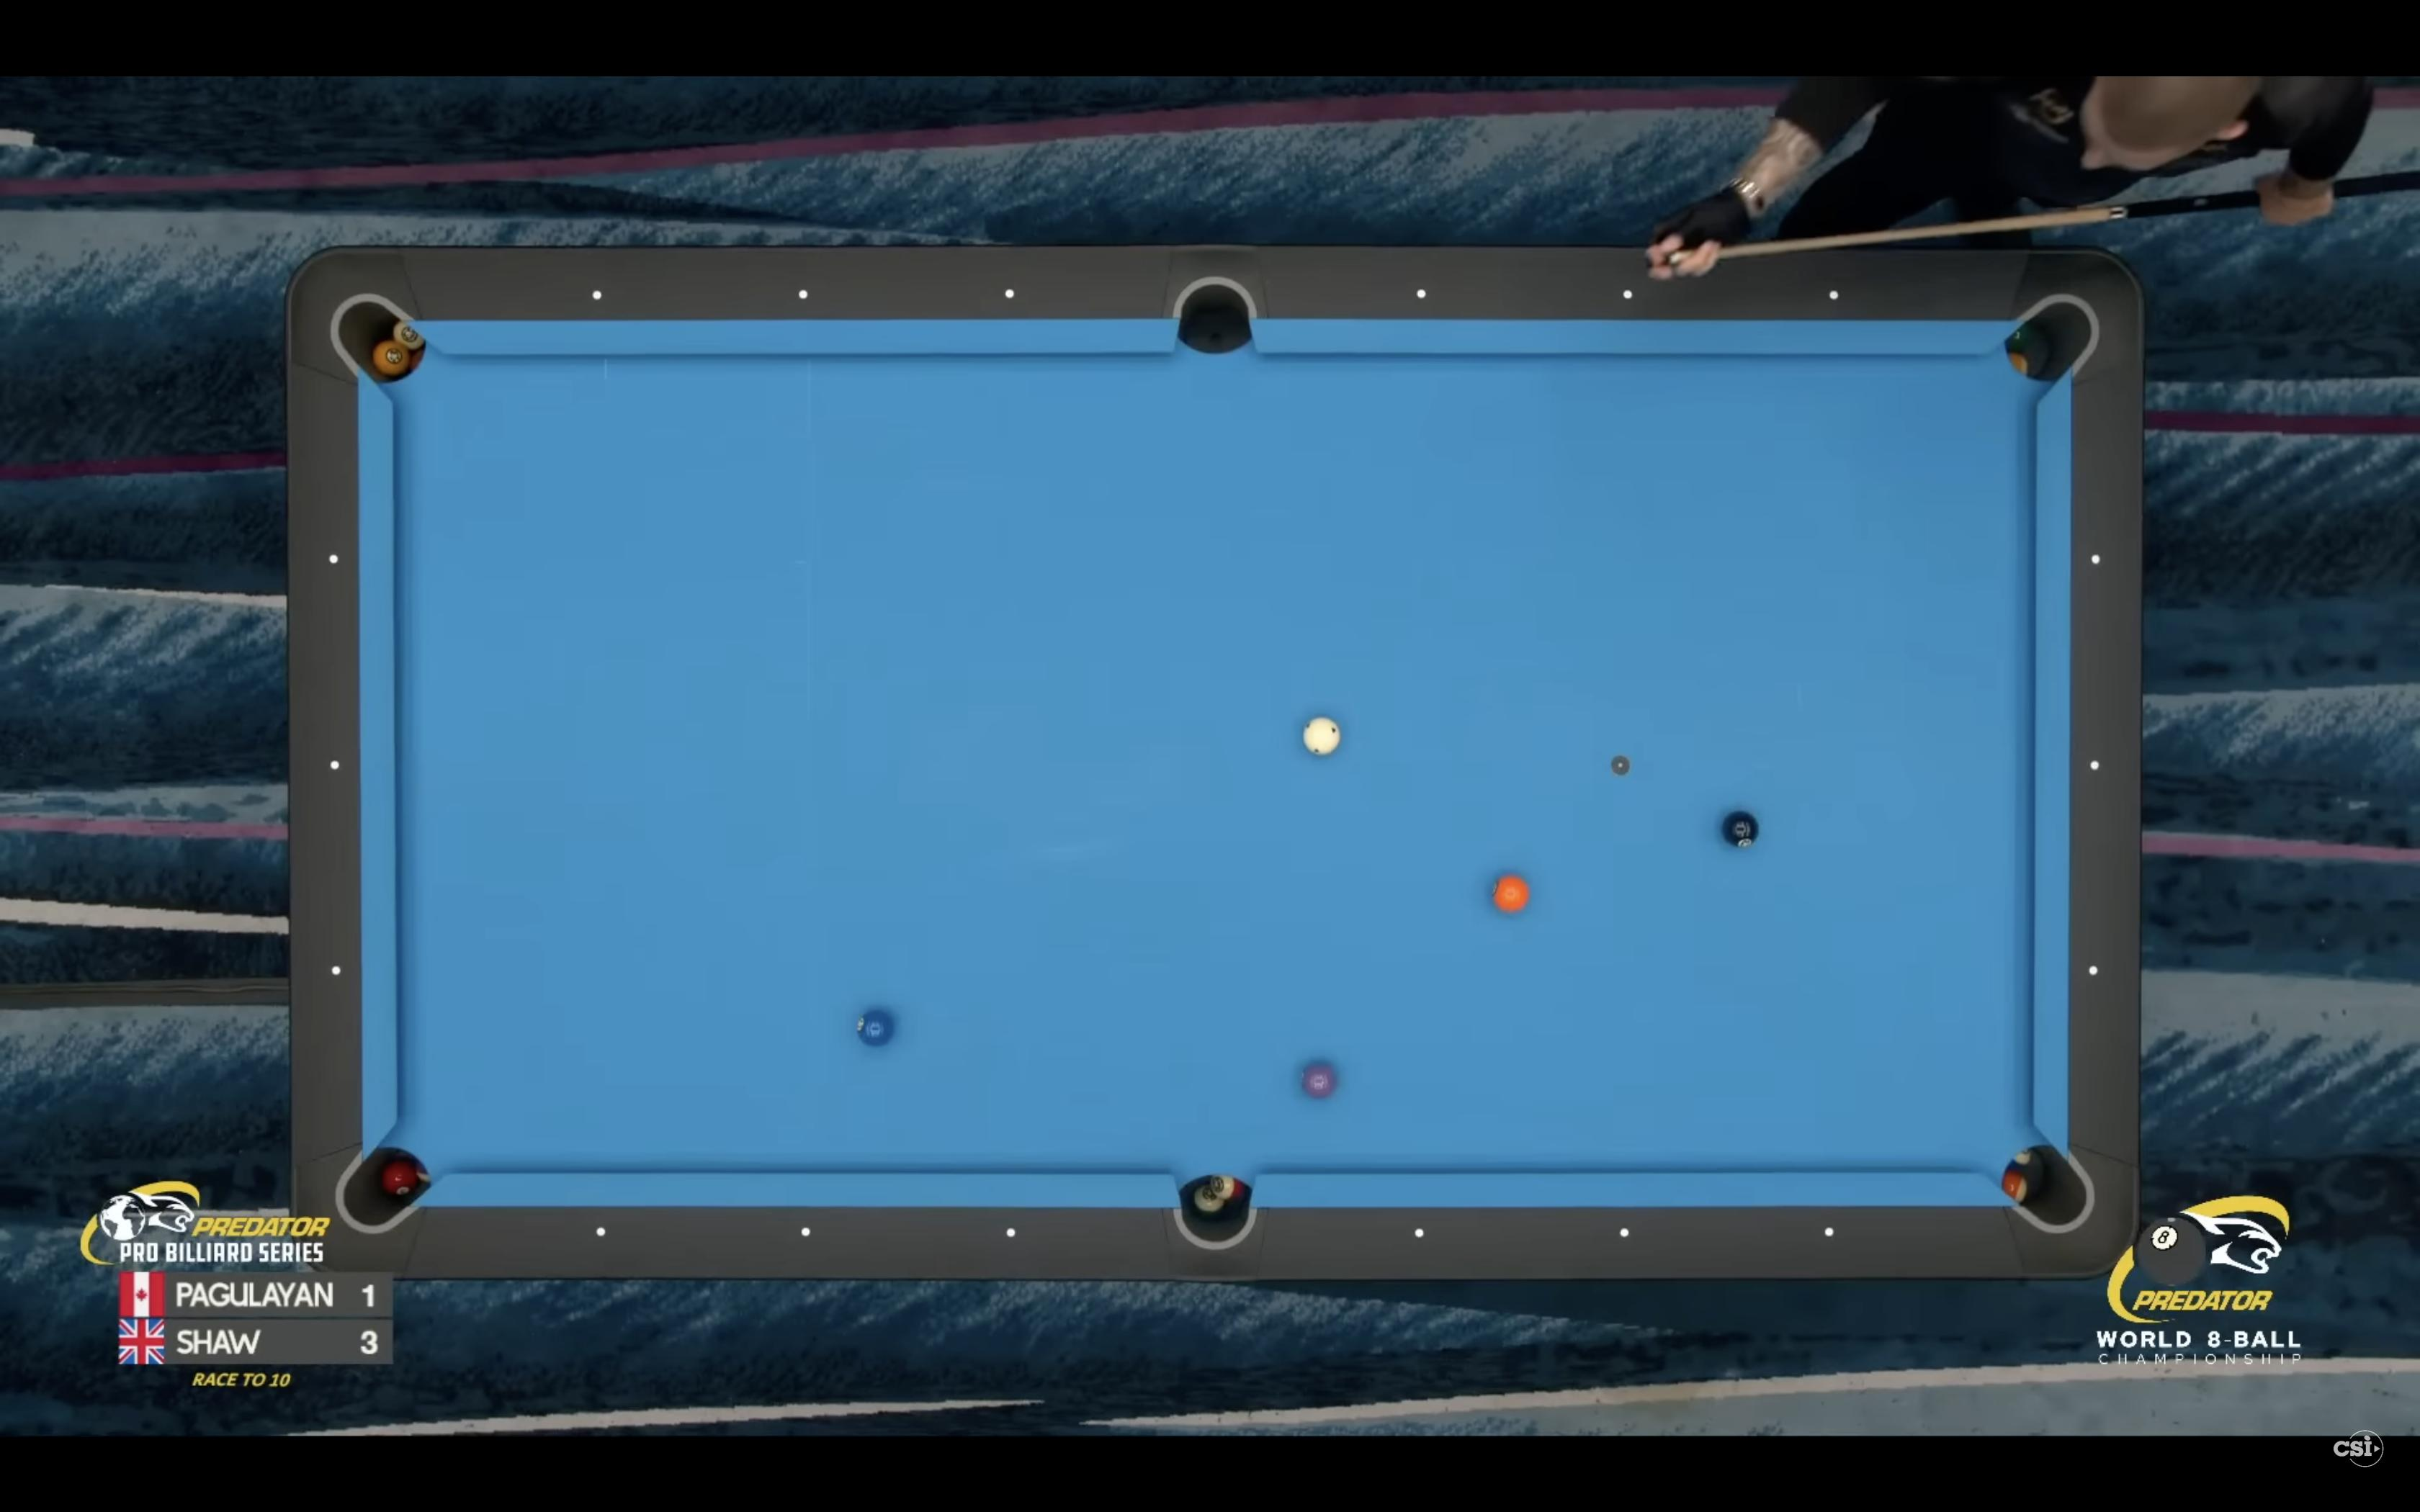Black: (1718, 808, 1761, 852)
Cue: (1300, 716, 1342, 758)
Dot: (1622, 287, 1634, 301), (1619, 1226, 1631, 1239), (2089, 759, 2101, 772), (1415, 287, 1427, 300), (1415, 1226, 1425, 1240), (329, 759, 341, 770), (800, 1226, 812, 1237), (1005, 1226, 1016, 1239), (1004, 289, 1016, 300), (796, 289, 808, 300), (592, 289, 603, 301), (329, 554, 340, 564), (331, 965, 341, 975), (596, 1226, 606, 1237), (1824, 1226, 1835, 1237), (2089, 965, 2099, 975), (2091, 554, 2101, 564), (1829, 289, 1838, 301)
Solid: (857, 1007, 897, 1049), (1491, 873, 1530, 915), (1301, 1059, 1336, 1101)
